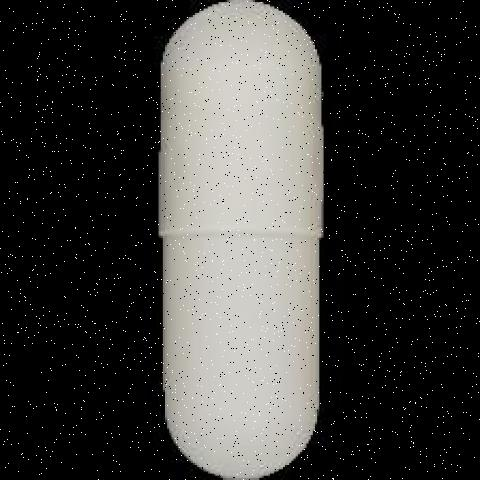hands: (138, 2, 420, 480)
